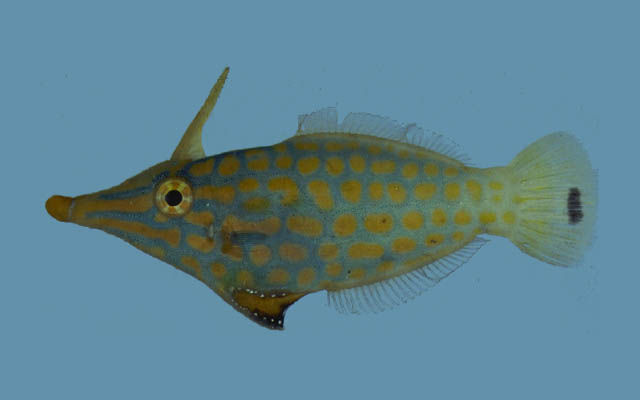fish: (45, 66, 601, 333)
